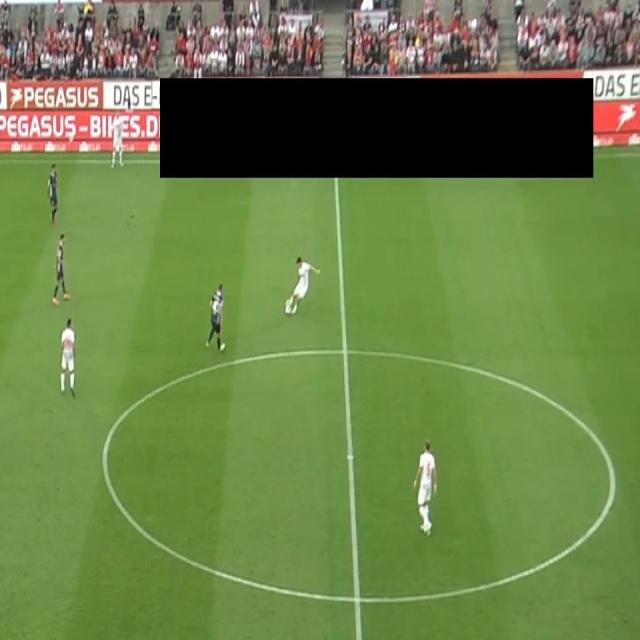ball: (285, 301, 293, 316)
